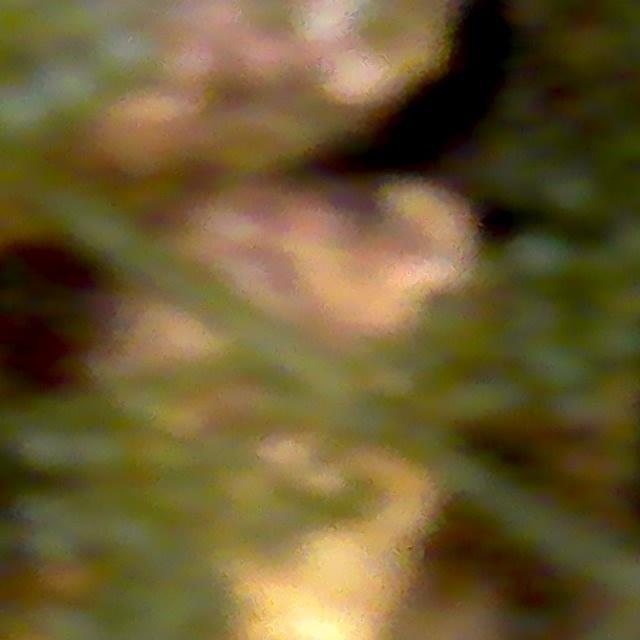SeaGrape: (0, 68, 64, 158)
